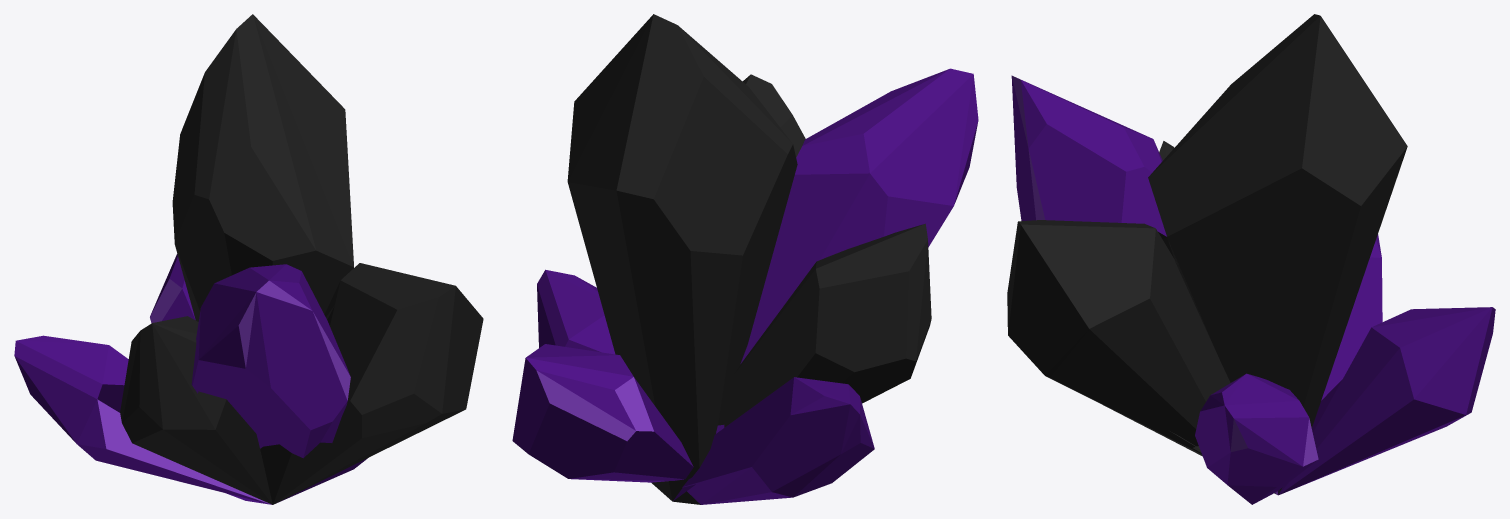
The model's file is crys.glb.
3 renders of one model, left to right at view 1: azimuth 30°, elevation 25°; view 2: azimuth 150°, elevation 25°; view 3: azimuth 270°, elevation 25°, orthographic. The views are drawn at different scales.
Visible parts, largest first — view 1: crystal; view 2: crystal; view 3: crystal.
Boxes of the visible parts, left/top/right/bottom form: crystal: left=14, top=14, right=483, bottom=504; crystal: left=512, top=14, right=978, bottom=504; crystal: left=1007, top=14, right=1495, bottom=504.
Size of the model in its own units: 2.24 by 2.72 by 2.53.
1 material, 1 textured.
